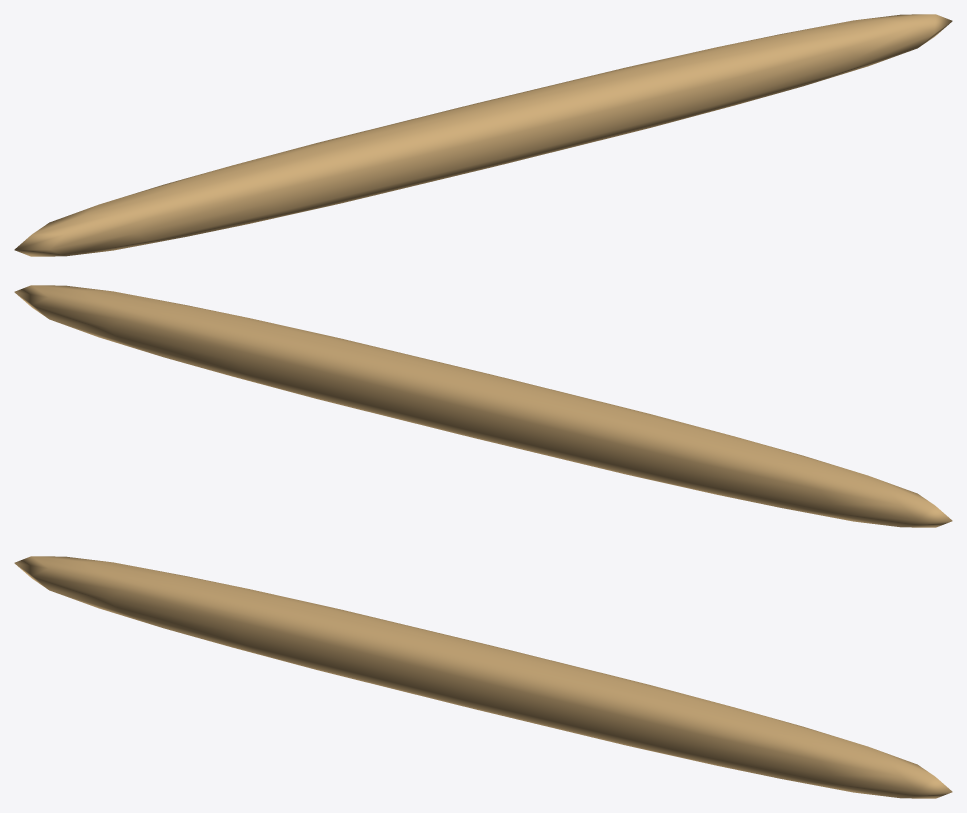
File: rope_section.fbx
The picture shows the model from 3 angles, top to bottom: view 1: azimuth 30°, elevation 25°; view 2: azimuth 150°, elevation 25°; view 3: azimuth 330°, elevation 25°; orthographic projection.
Parts seen in each view (by area): view 1: rope_section_mesh; view 2: rope_section_mesh; view 3: rope_section_mesh.
Boxes of the visible parts, left/top/right/bottom form: rope_section_mesh: left=14, top=14, right=952, bottom=256; rope_section_mesh: left=14, top=285, right=952, bottom=527; rope_section_mesh: left=14, top=556, right=952, bottom=798.
Size of the model in its own units: 1.02 by 0.055 by 0.065.
